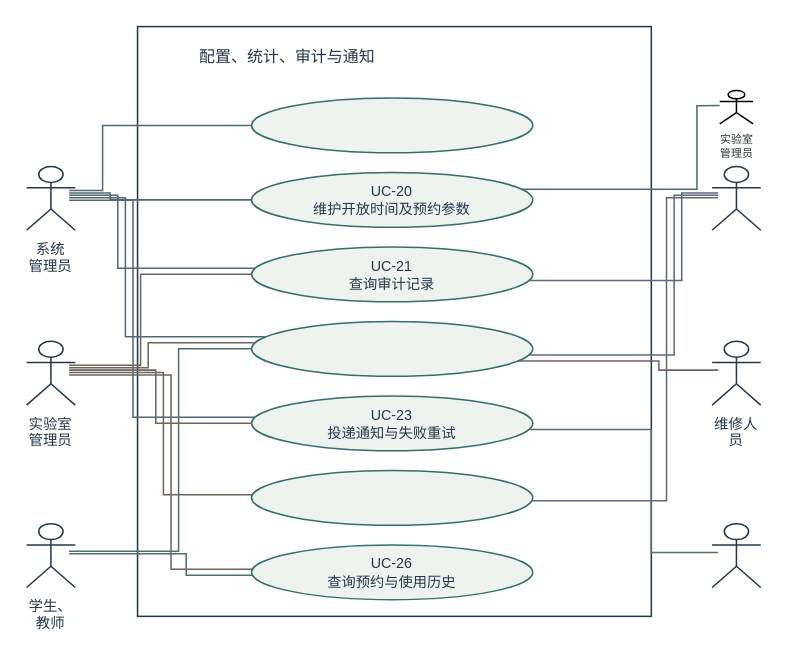
Image size: 787x660. Some labels were removed from this diagram. The shapes that lost their labels are listed below. From the top down, each one's centre as x and y in pixels, then its label:
At point 391,125: "UC-19 维护用户角色与管理范围".
At point 736,197: "实验教学 中心主任".
At point 391,348: "UC-22 查看本人通知".
At point 391,497: "UC-24 查看资源利用与运行报表".
At point 736,554: "消息服务".
